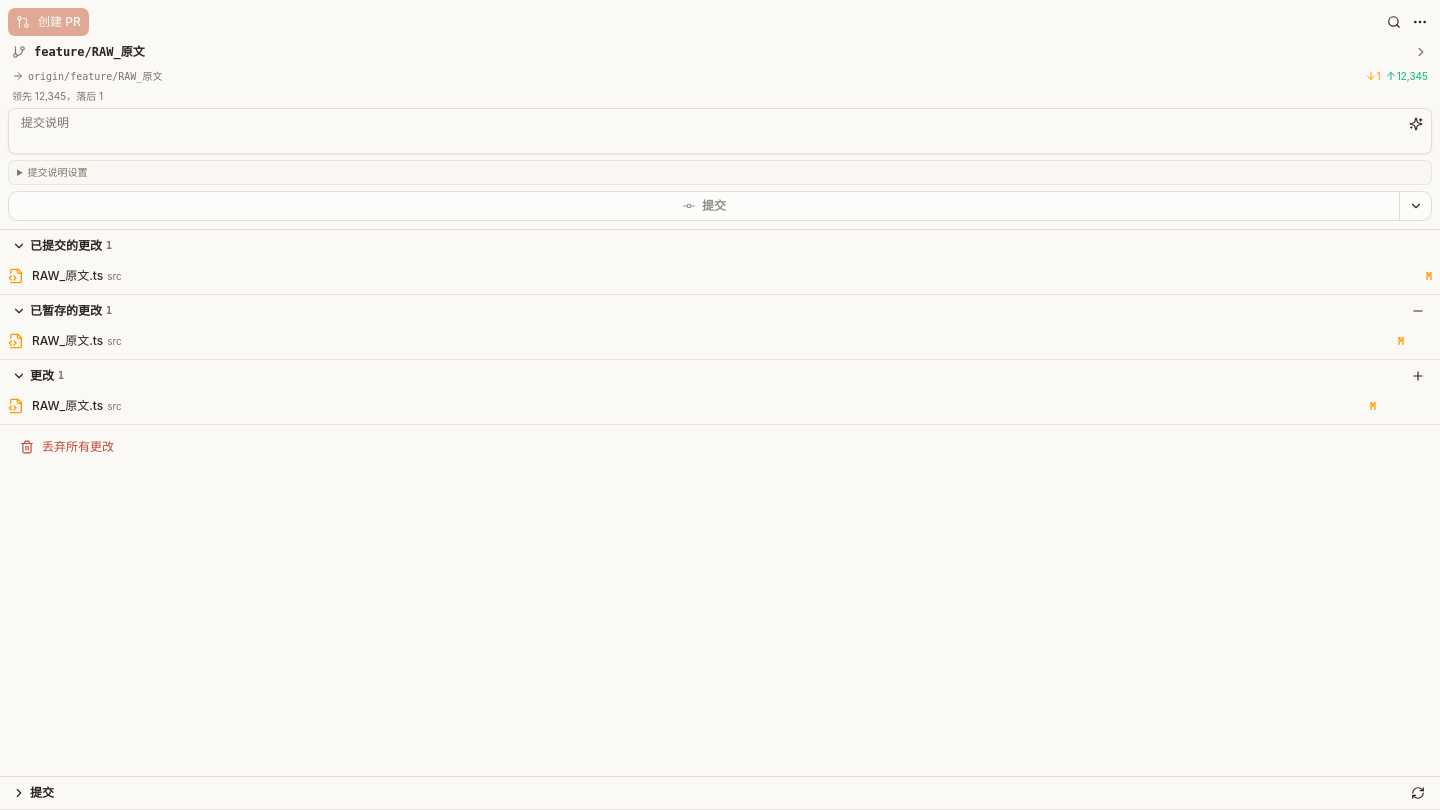
Test: WorkspaceGitTab i18n › localizes the branch sheet and remote dialog close buttons in Chinese
Click the button titled "管理分支". click: (89, 52)
box: [8, 42, 1432, 62]
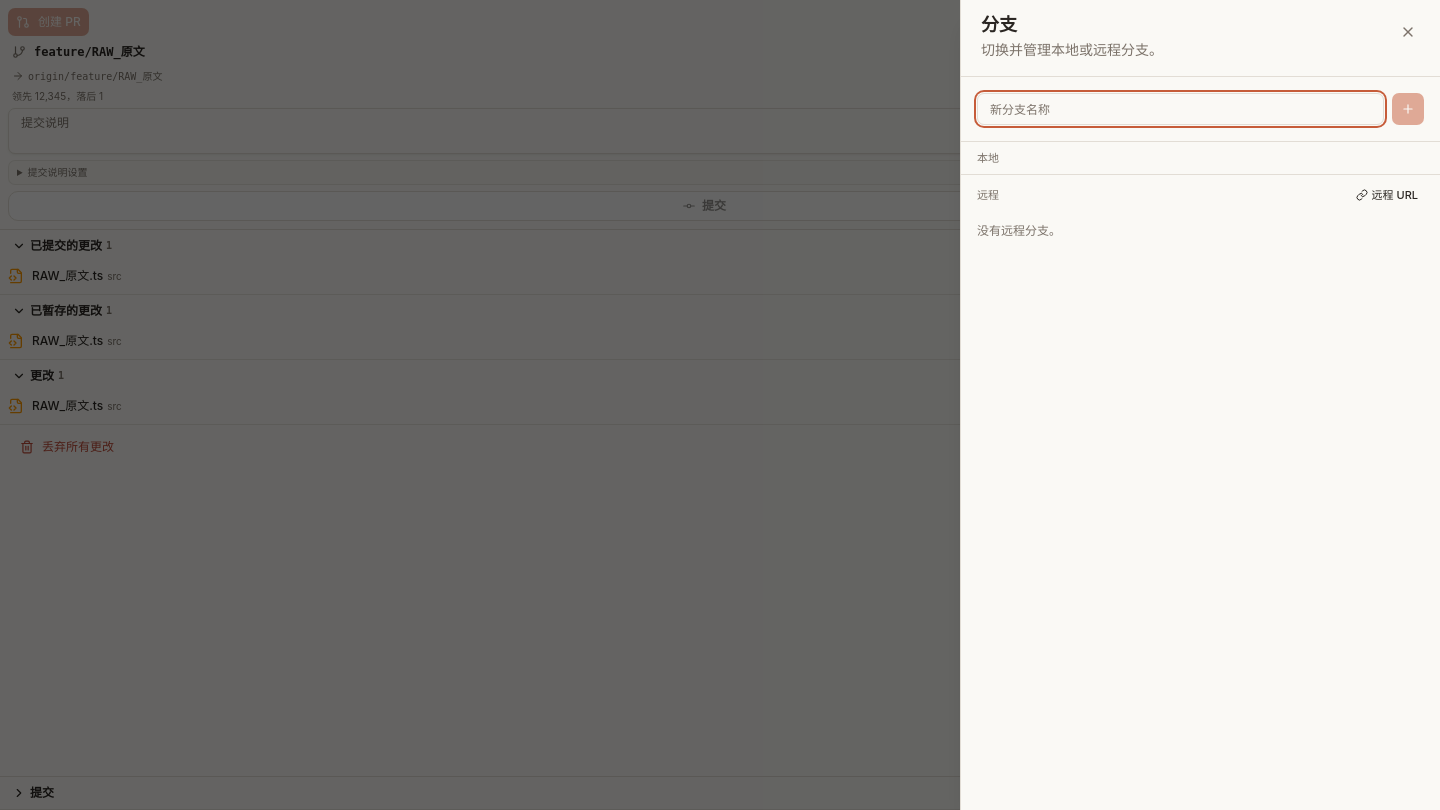
Check: the button named "关闭" is shown, box [1392, 16, 1424, 48]
Click the button "远程 URL". click: (1387, 195)
box: [1350, 183, 1424, 207]
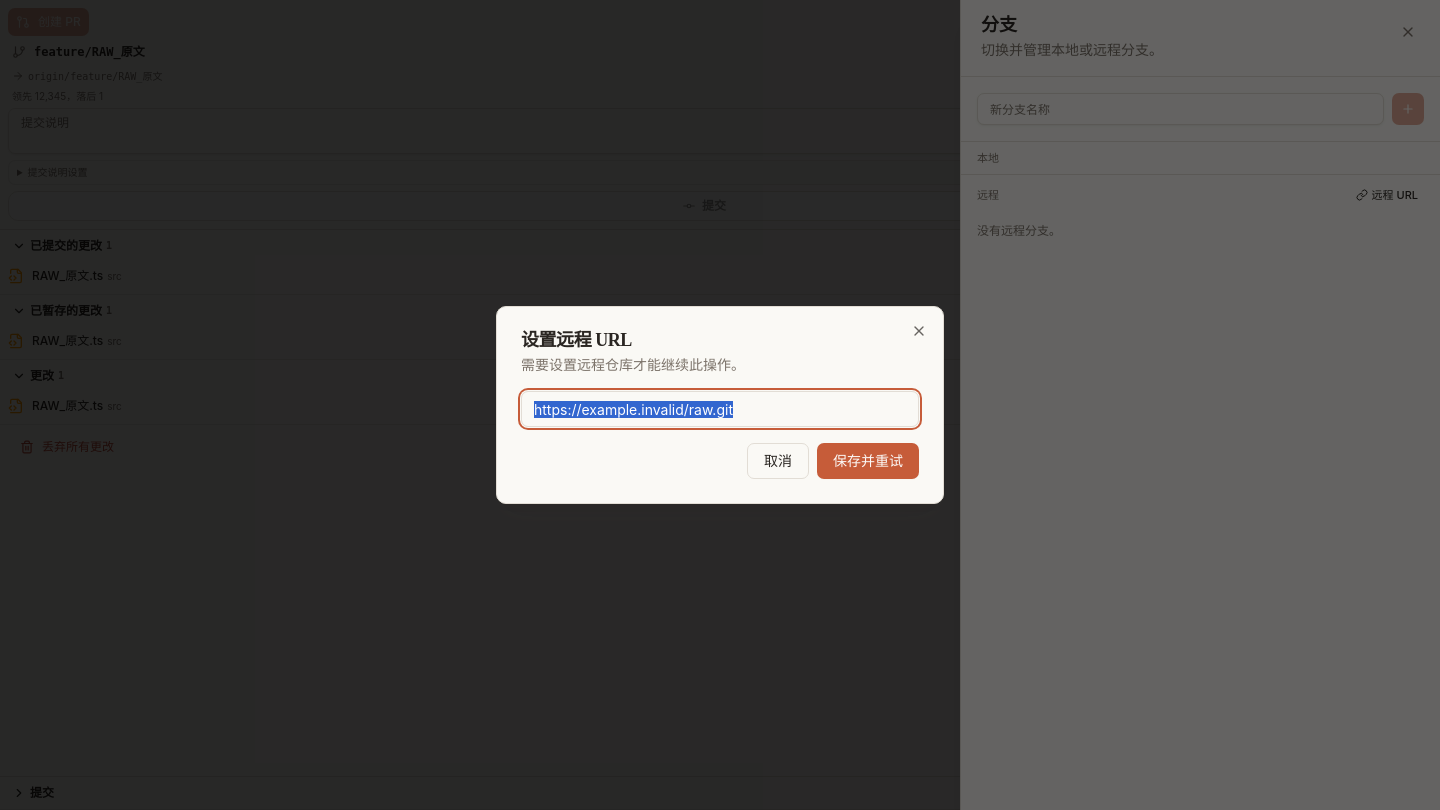
Check: the button named "关闭" is shown, box [911, 323, 927, 339]
